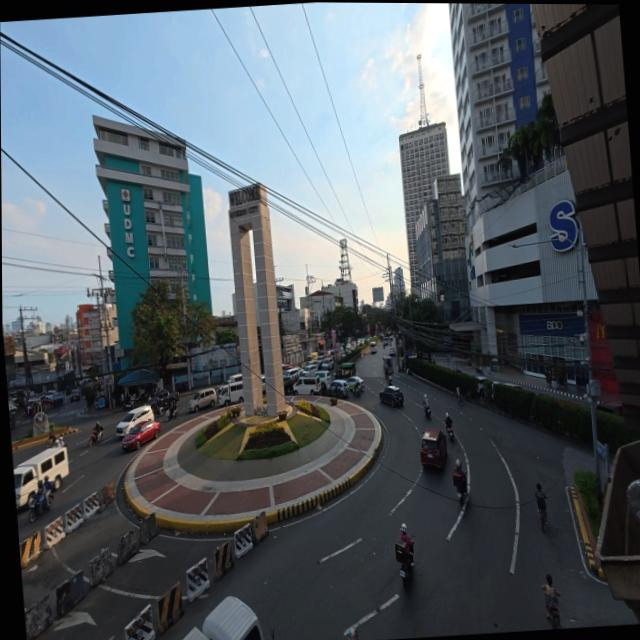car: (117, 409, 162, 452), (185, 388, 219, 412)
vans: (11, 434, 72, 517)
